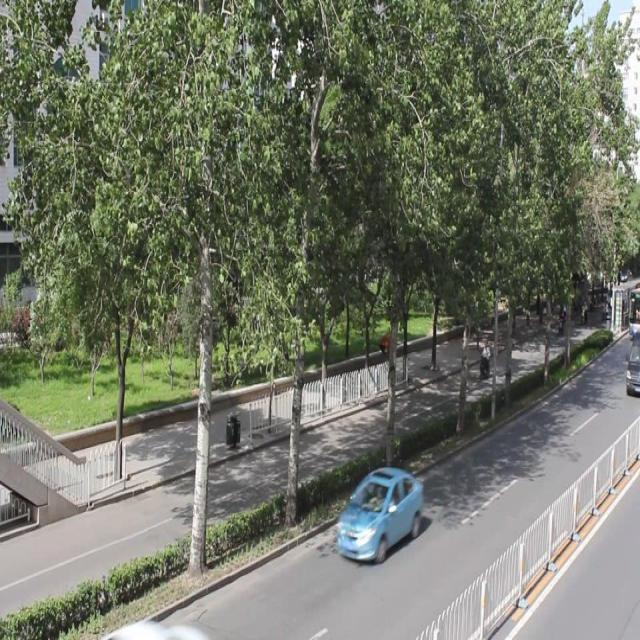car: (334, 467, 422, 562)
